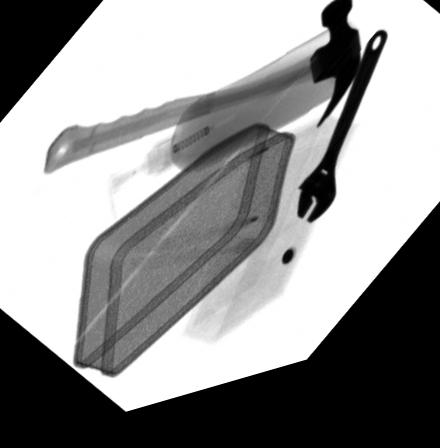Hammer: (41, 12, 361, 177)
Wrench: (296, 51, 387, 240)
